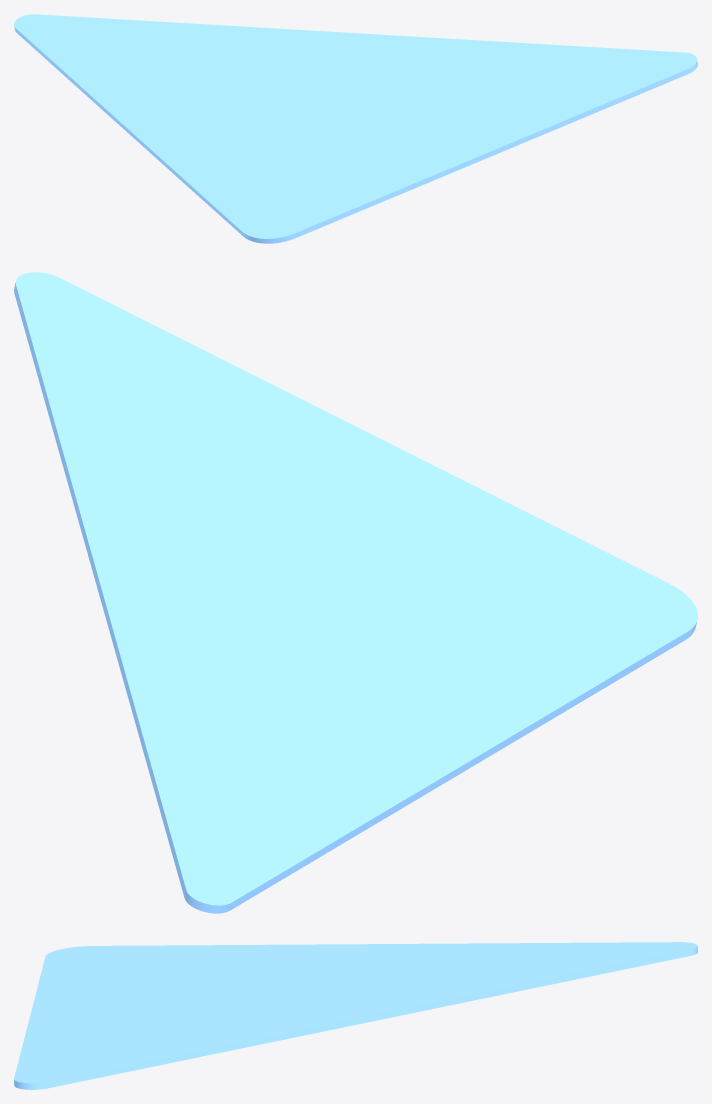
Rendered from lake3.glb.
The picture shows the model from 3 angles, top to bottom: view 1: azimuth 30°, elevation 25°; view 2: azimuth 150°, elevation 25°; view 3: azimuth 270°, elevation 25°; orthographic projection. The views are drawn at different scales.
Visible parts, largest first — view 1: Rectangle; view 2: Rectangle; view 3: Rectangle.
Boxes of the visible parts, box(x1,y1,x2,y2) form: Rectangle: box(14, 14, 697, 243); Rectangle: box(14, 272, 697, 913); Rectangle: box(14, 942, 697, 1089).
Bounding box in the file's own units: 25.02 × 5.38 × 29.56.
